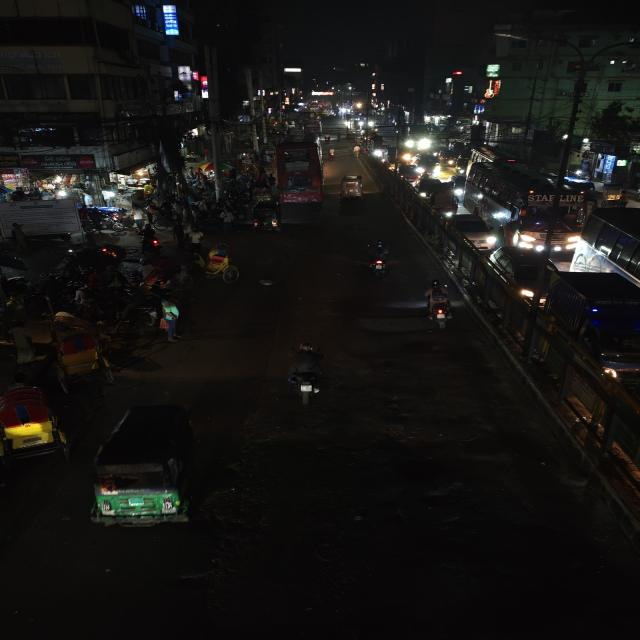bus: (464, 160, 587, 248), (571, 206, 640, 310), (274, 140, 326, 208)
car: (489, 246, 560, 306), (445, 213, 499, 251), (415, 177, 458, 221), (393, 163, 422, 185)
cng: (88, 402, 204, 534), (248, 202, 283, 234), (338, 172, 367, 200), (448, 174, 468, 204), (602, 185, 626, 201)
motorcycle: (280, 342, 334, 408), (421, 280, 458, 329), (360, 240, 398, 280), (136, 224, 165, 253), (327, 147, 338, 160)
pedestrian: (156, 296, 186, 344), (186, 228, 206, 254)
rickshaw: (0, 382, 78, 458), (36, 327, 122, 388), (182, 242, 243, 282)
truck: (545, 269, 640, 382)
